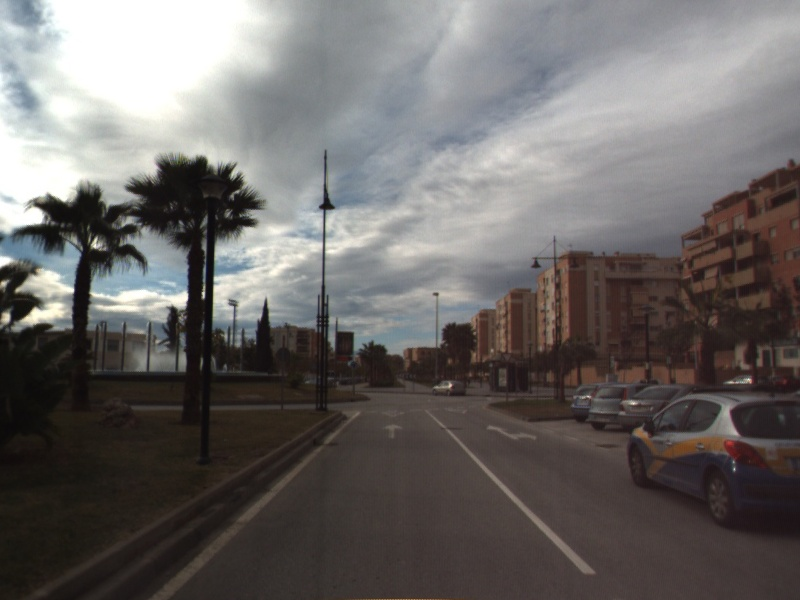STRAIGHT: (381, 422, 405, 440)
STRAIGHT_RIGHT: (485, 423, 538, 442)
